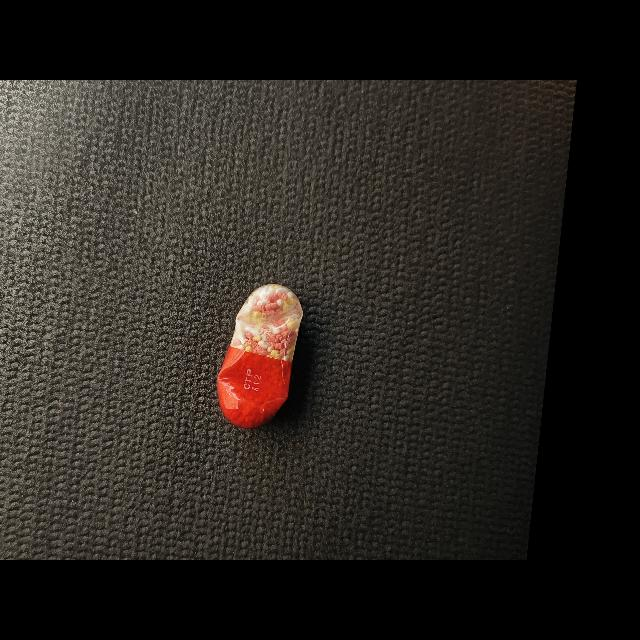Defective Capsule: (217, 284, 303, 429)
